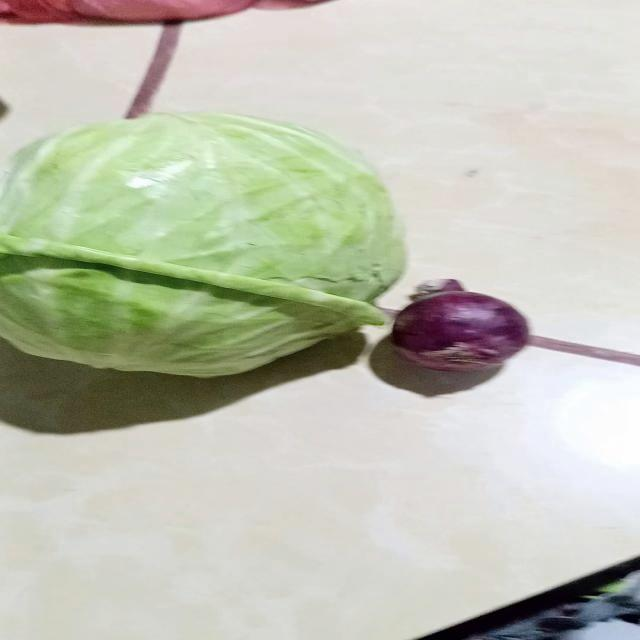cabbage: (0, 112, 410, 380)
onion: (391, 281, 532, 370)
